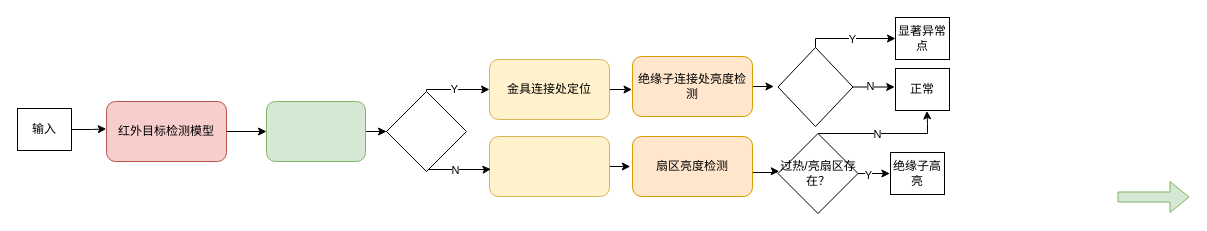
Image size: 1207x231. Some labels were removed from this diagram. The shapes that lost their labels are listed below. From the top down, each one's centre as x and y in pixels, then its label:
At [815,86]: "过热/亮点存在？".
At [316,131]: "金具目标定位".
At [426,131]: "双金具目标配对成功?".
At [549,166]: "绝缘子分析".
